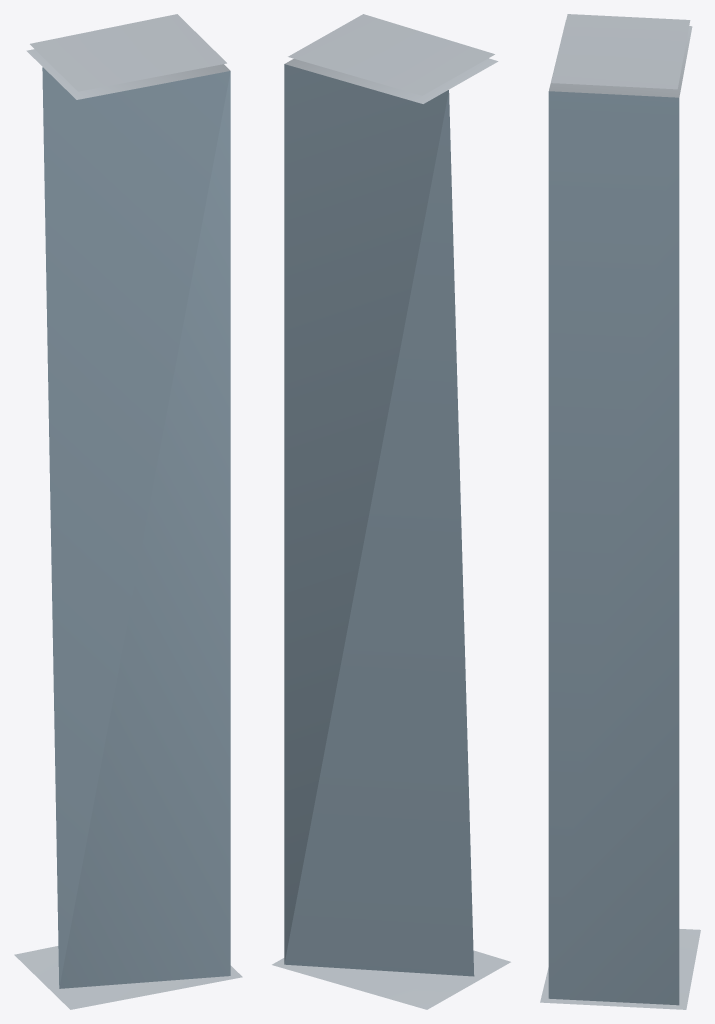
Rendered from tower_09_lod1.glb.
3 views of the same model, side by side, from view 1: azimuth 30°, elevation 25°; view 2: azimuth 150°, elevation 25°; view 3: azimuth 270°, elevation 25° (orthographic).
Parts seen in each view (by area): view 1: tower_09_lod1; view 2: tower_09_lod1; view 3: tower_09_lod1.
Part boxes in pixels (x1,y1,x2,y2): tower_09_lod1: (14, 14, 242, 1009); tower_09_lod1: (272, 14, 510, 1009); tower_09_lod1: (540, 14, 700, 1009).
Bounding box in the file's own units: 52.23 × 256 × 40.81.
